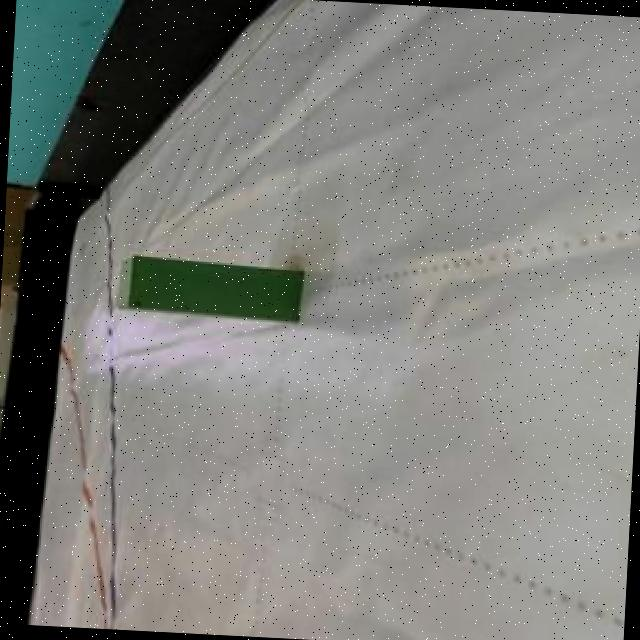greenbox: (111, 251, 306, 324)
